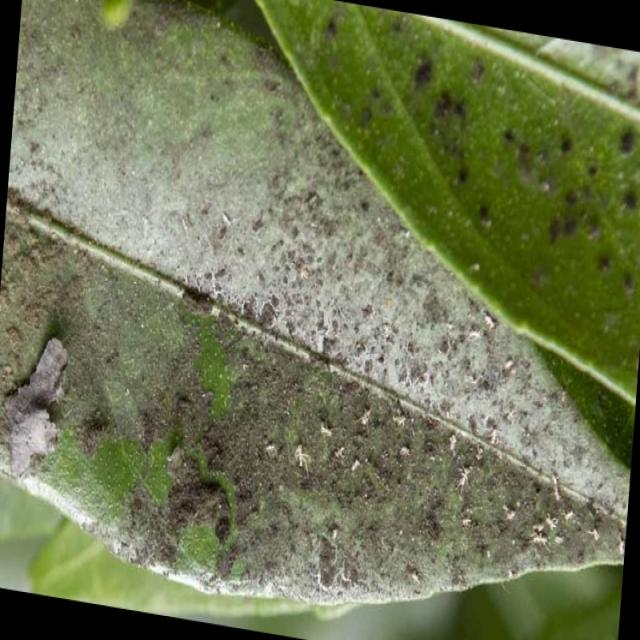Sooty Mold: (1, 1, 638, 609), (4, 334, 70, 479)
